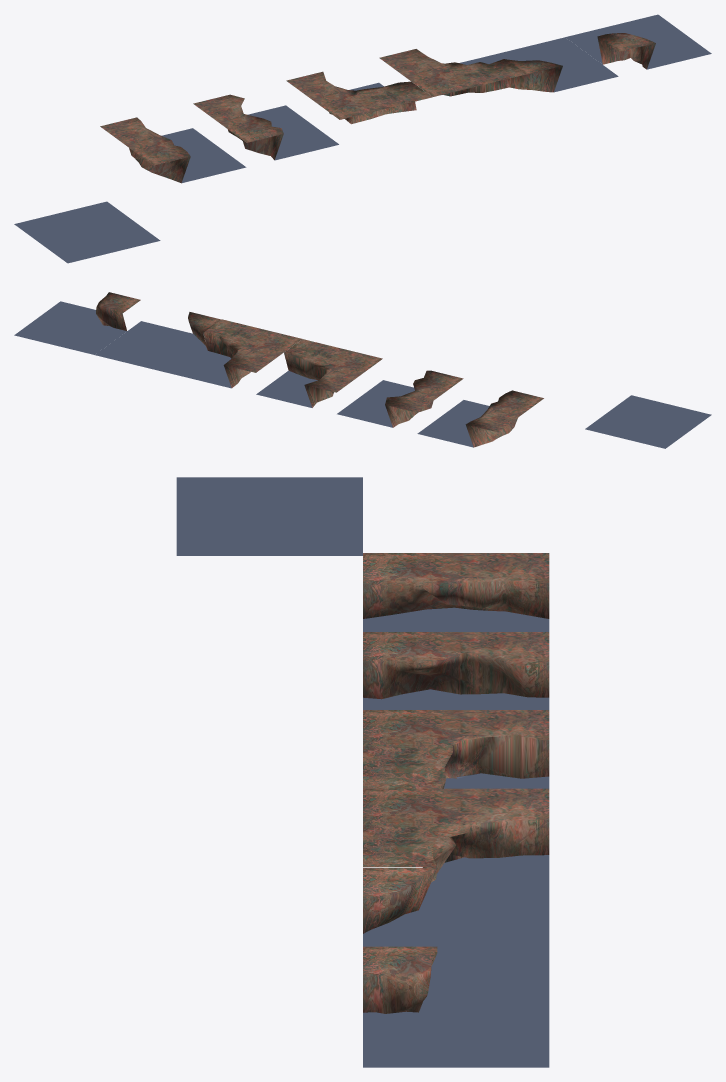
Rendered from cave_water.glb.
3 views of the same model, one above another, from view 1: azimuth 30°, elevation 25°; view 2: azimuth 150°, elevation 25°; view 3: azimuth 270°, elevation 25° (orthographic). The views are drawn at different scales.
Parts seen in each view (by area): view 1: Water, water_edge1, water_edge2, water_convex2, water_convex1, water_concave2, water_concave1; view 2: water_concave1, water_concave2, water_convex2, water_convex1, Water, water_edge1, water_edge2; view 3: water_concave2, water_convex2, Water, water_concave1, water_edge1, water_convex1, water_edge2.
Boxes of the visible parts, bbox=[...] form: Water: bbox=[14, 201, 160, 263]; water_edge1: bbox=[100, 117, 246, 183]; water_edge2: bbox=[193, 94, 338, 160]; water_convex2: bbox=[565, 14, 711, 69]; water_convex1: bbox=[473, 37, 618, 92]; water_concave2: bbox=[379, 49, 525, 96]; water_concave1: bbox=[286, 71, 432, 124]; water_concave1: bbox=[256, 339, 382, 407]; water_concave2: bbox=[175, 319, 301, 388]; water_convex2: bbox=[14, 292, 140, 354]; water_convex1: bbox=[95, 312, 220, 374]; Water: bbox=[585, 395, 711, 448]; water_edge1: bbox=[417, 390, 543, 447]; water_edge2: bbox=[337, 370, 463, 427]; water_concave2: bbox=[363, 788, 549, 910]; water_convex2: bbox=[363, 946, 549, 1067]; Water: bbox=[176, 477, 362, 555]; water_concave1: bbox=[363, 710, 549, 788]; water_edge1: bbox=[363, 553, 549, 631]; water_convex1: bbox=[363, 868, 549, 988]; water_edge2: bbox=[363, 632, 549, 709].
Size of the model in its own units: 15 by 0.5531 by 4.
2 materials, 1 textured.
